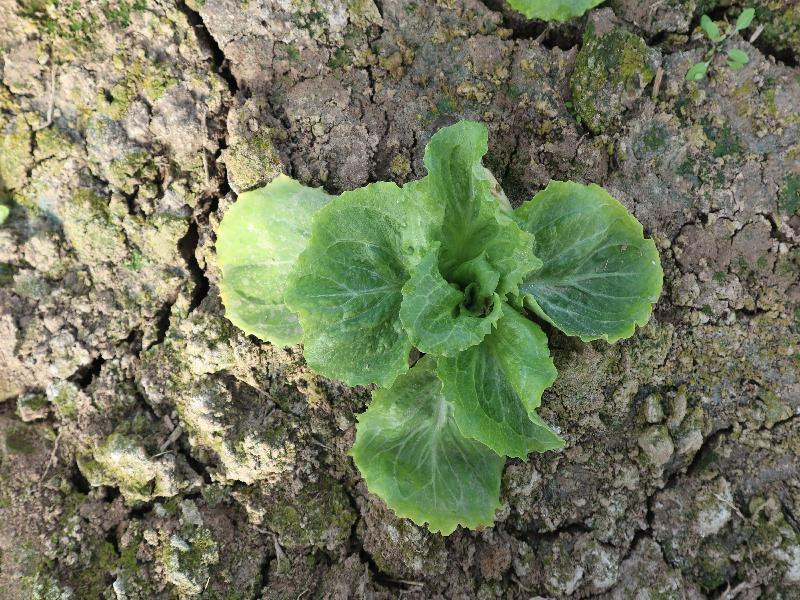lettuce: (216, 118, 665, 537)
